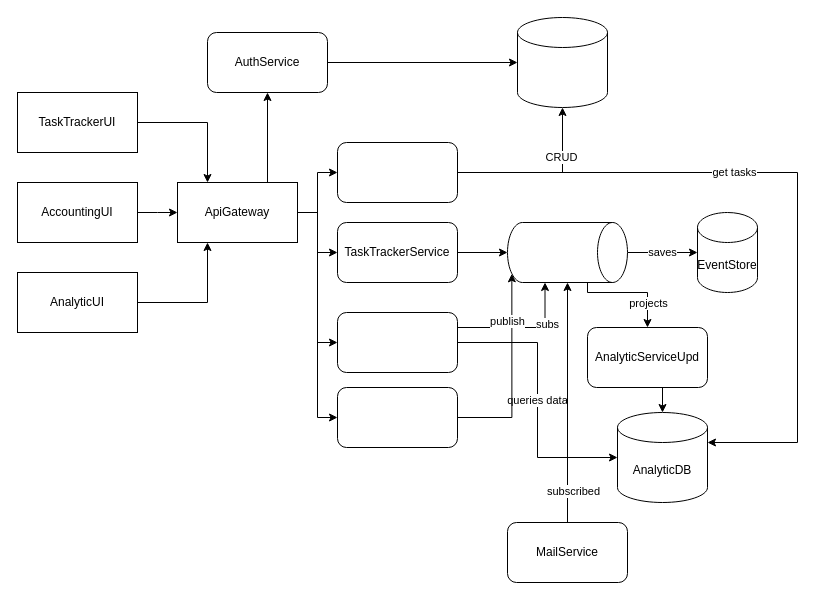
The diagram is 823 pixels wide and 600 high, and some of its shapes have lost their labels. The shapes that lost their labels are listed below. From the top down, each one's centre as x and y in pixels, then its label:
At (x=562, y=62): "SQL DB users, rights, tasks".
At (x=397, y=172): "UsersService".
At (x=567, y=252): "BUS".
At (x=397, y=342): "AnalyticServiceRead".
At (x=397, y=417): "ScheduleService".
